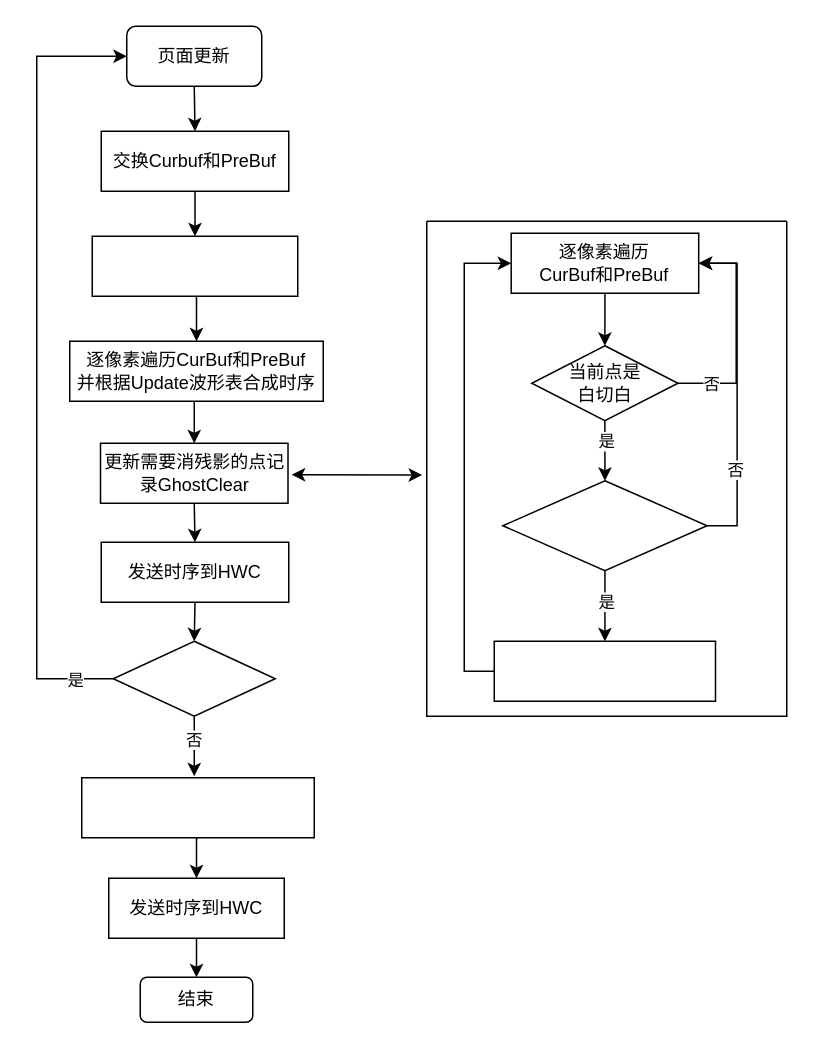
Some shapes in this 813 by 1049 pixel diagram are drawn without their labels. Each missing label, with the box of its shape:
当前点周围 只有白切白或者 灰黑切白: (501, 479, 707, 571)
彩色图像转灰和DIther，把结果写入到Curbuf: (91, 235, 298, 296)
是否有新 页面 刷新: (112, 640, 275, 716)
记录当前点周围八个点黑切白的个数写入GhostClear: (493, 640, 716, 701)
逐像素遍历GhostClear并根据消残影波形合成时序: (80, 776, 314, 838)
